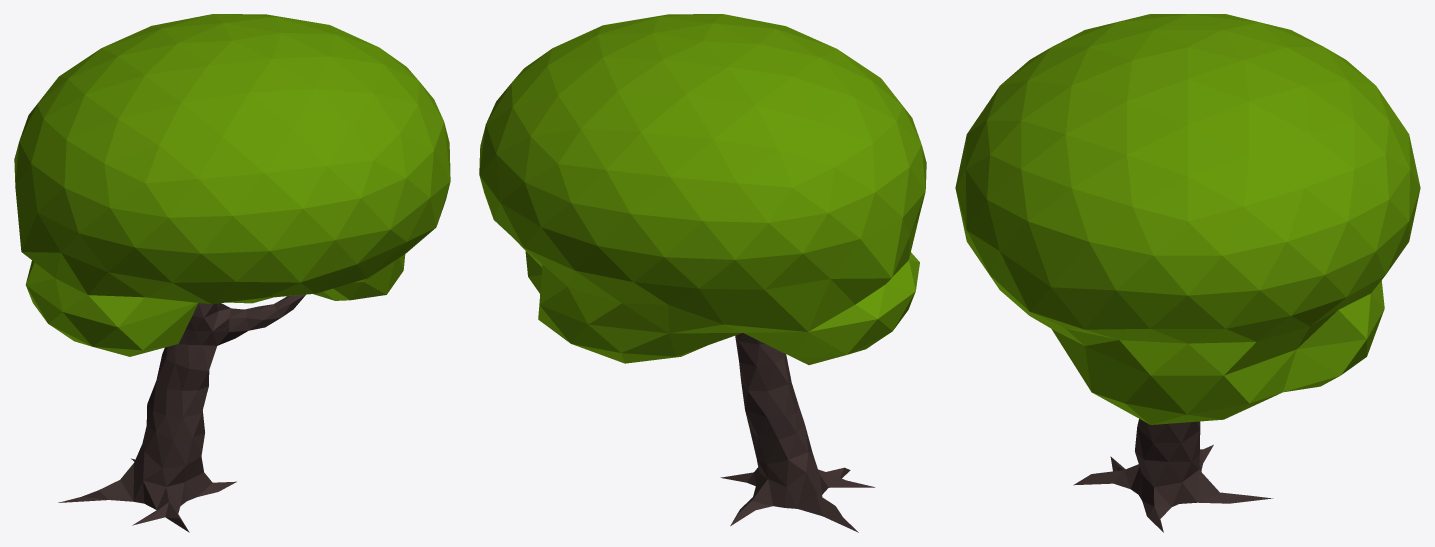
File: tree_03b.fbx
The picture shows the model from 3 angles, left to right: view 1: azimuth 30°, elevation 25°; view 2: azimuth 150°, elevation 25°; view 3: azimuth 270°, elevation 25°; orthographic projection. The views are drawn at different scales.
Parts seen in each view (by area): view 1: Feuilles, Tronc; view 2: Feuilles, Tronc; view 3: Feuilles, Tronc.
Part boxes in pixels (left/top/right/bottom): Feuilles: left=14, top=14, right=450, bottom=356; Tronc: left=58, top=294, right=305, bottom=532; Feuilles: left=479, top=14, right=926, bottom=364; Tronc: left=720, top=333, right=874, bottom=532; Feuilles: left=955, top=14, right=1420, bottom=424; Tronc: left=1073, top=419, right=1273, bottom=532.
Size of the model in its own units: 25.8 by 27.14 by 23.38.
